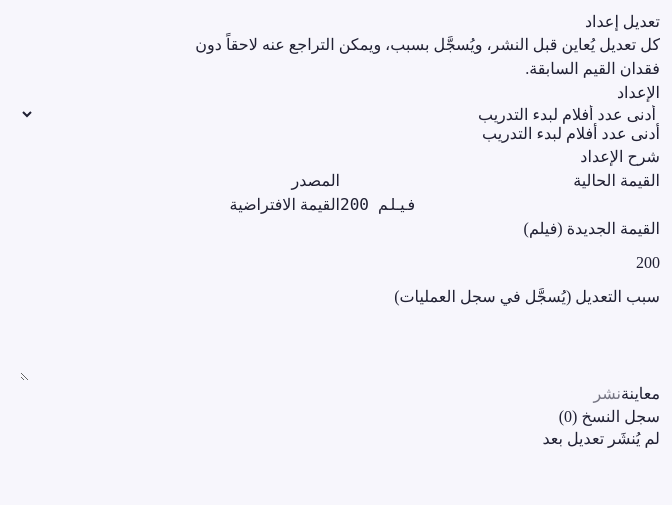
Test: SettingsAdmin › publishes with the loaded version and a reason, then reads back the new state
Replace the text in the number field labelled "القيمة الجديدة (فيلم)" with "300" at (500, 263), box [340,241,660,285]
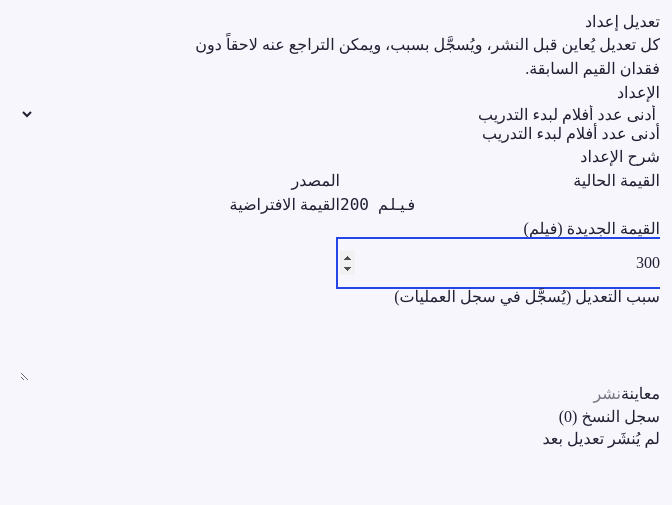
Type "موسم جديد أضاف أفلاماً" into the text box labelled "سبب التعديل (يُسجَّل في سجل العمليات)".
click(340, 345); type("موسم جديد أضاف أفلاماً")  # box [20,309,660,381]
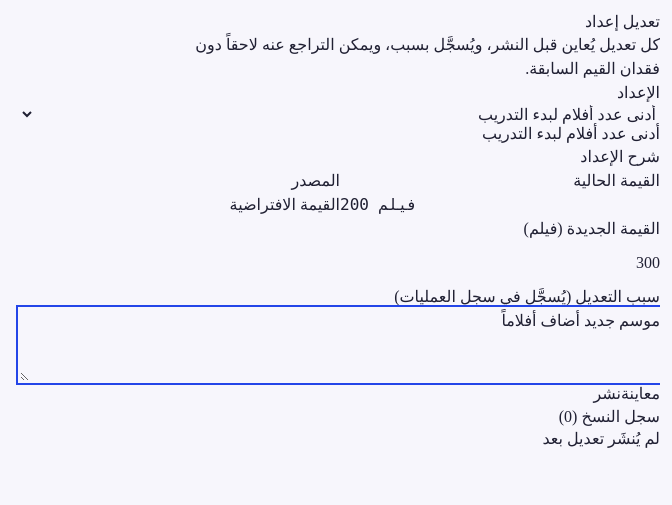
Click the button "نشر".
click(607, 394)  # box [593,381,621,407]
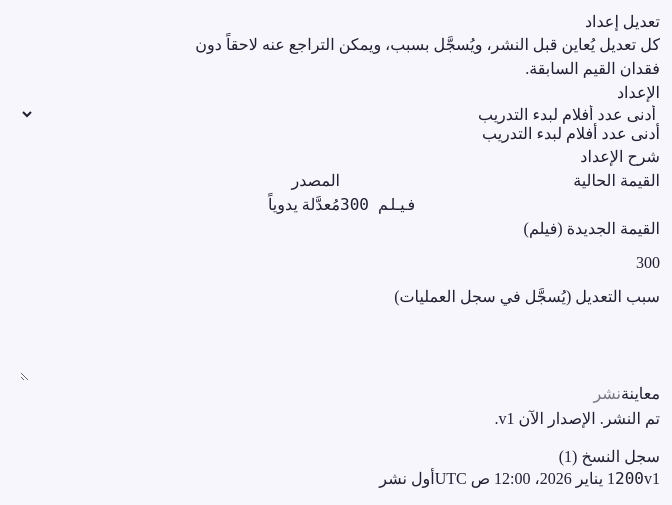
Expected: the text "تم النشر. الإصدار الآن v1." is shown, [495,410,660,427]
